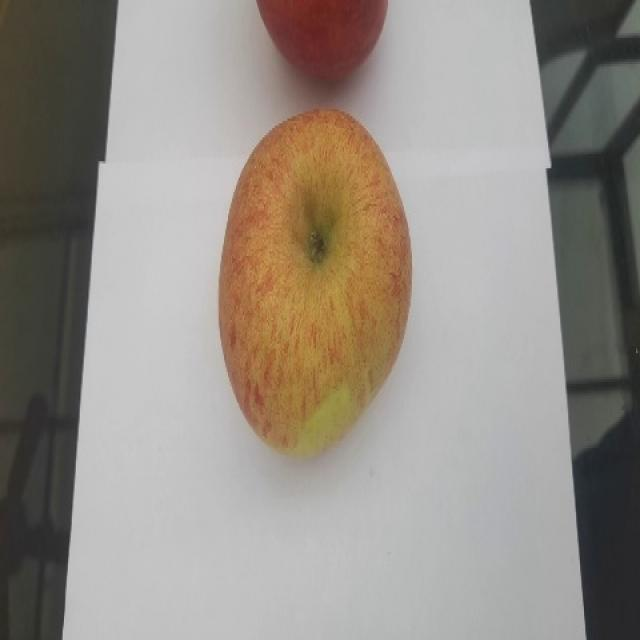Apple: (217, 106, 412, 458), (255, 0, 388, 82)
